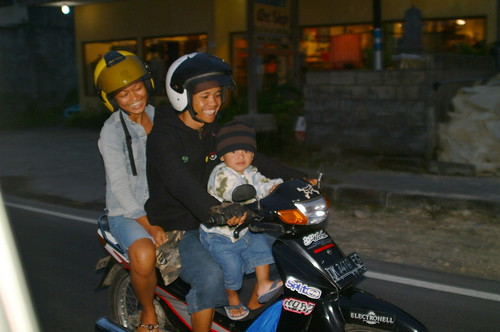helmet: (85, 46, 154, 111), (165, 49, 228, 115)
